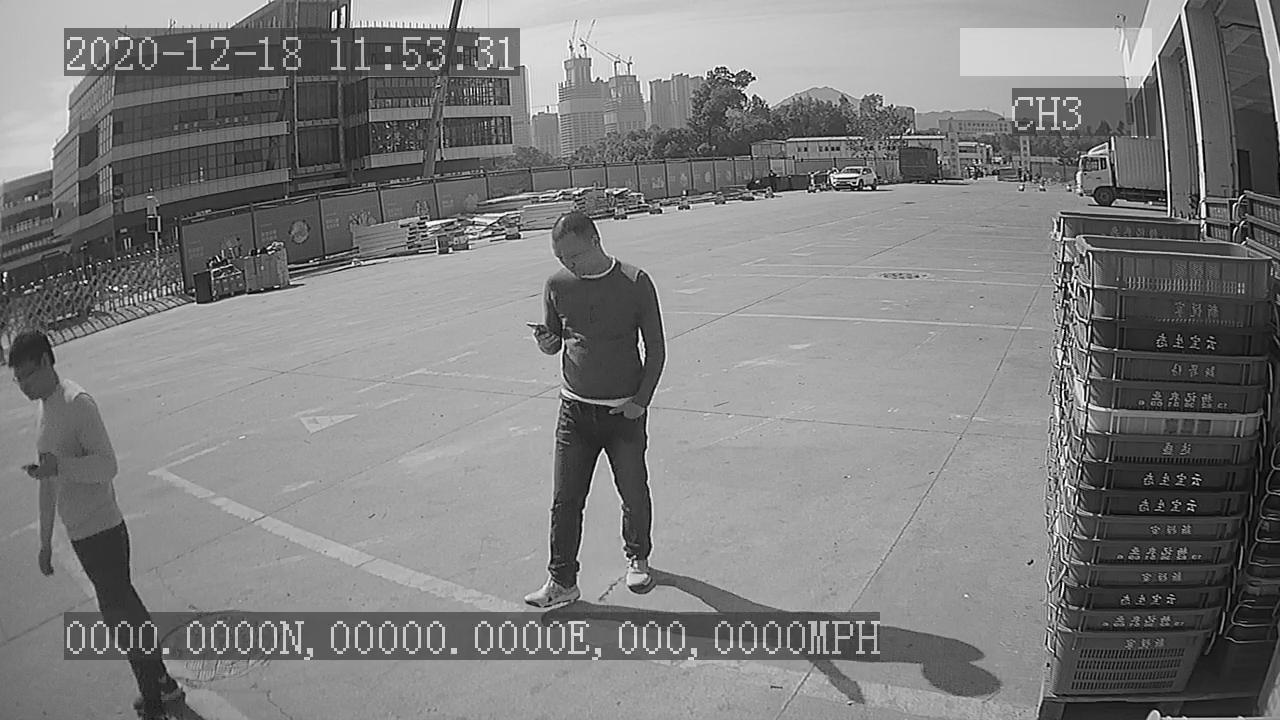person: (513, 204, 681, 604)
